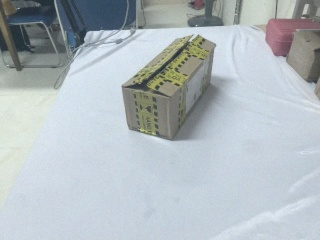box: (121, 33, 216, 141), (287, 30, 320, 82)
